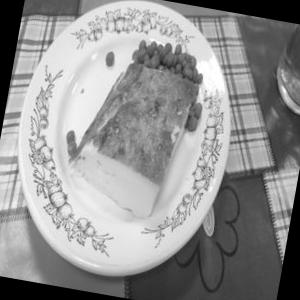casserole: (54, 23, 214, 235)
